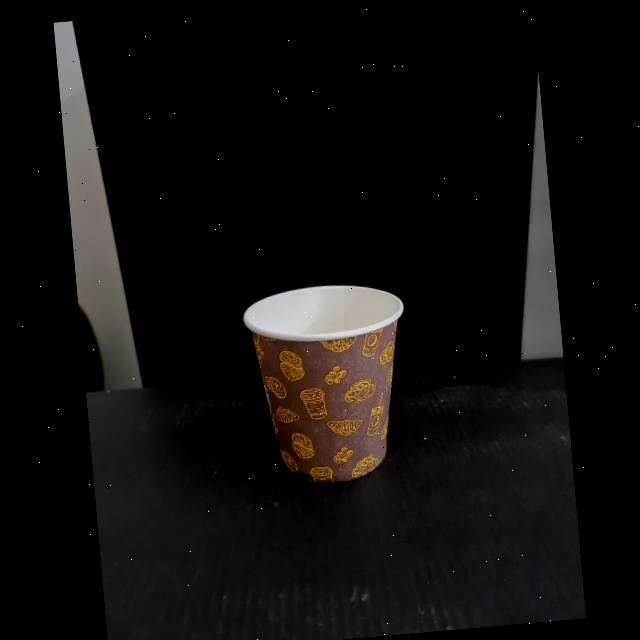trash: (224, 256, 438, 502)
